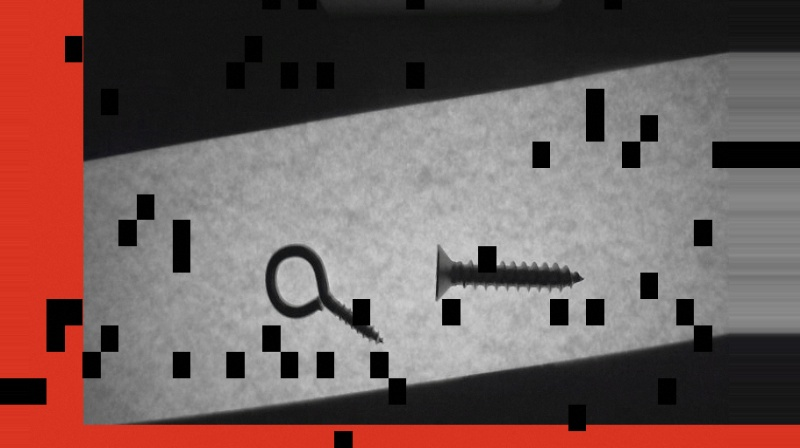O001: (264, 246, 383, 345)
S001: (432, 242, 586, 302)
